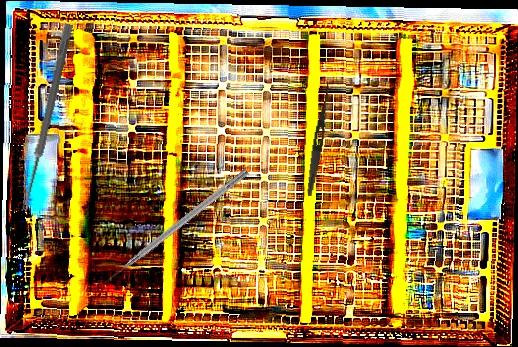Dressing Forceps: (304, 81, 333, 197)
Hook Surgical: (100, 167, 250, 287)
Surgical Spoon: (19, 22, 74, 214)
